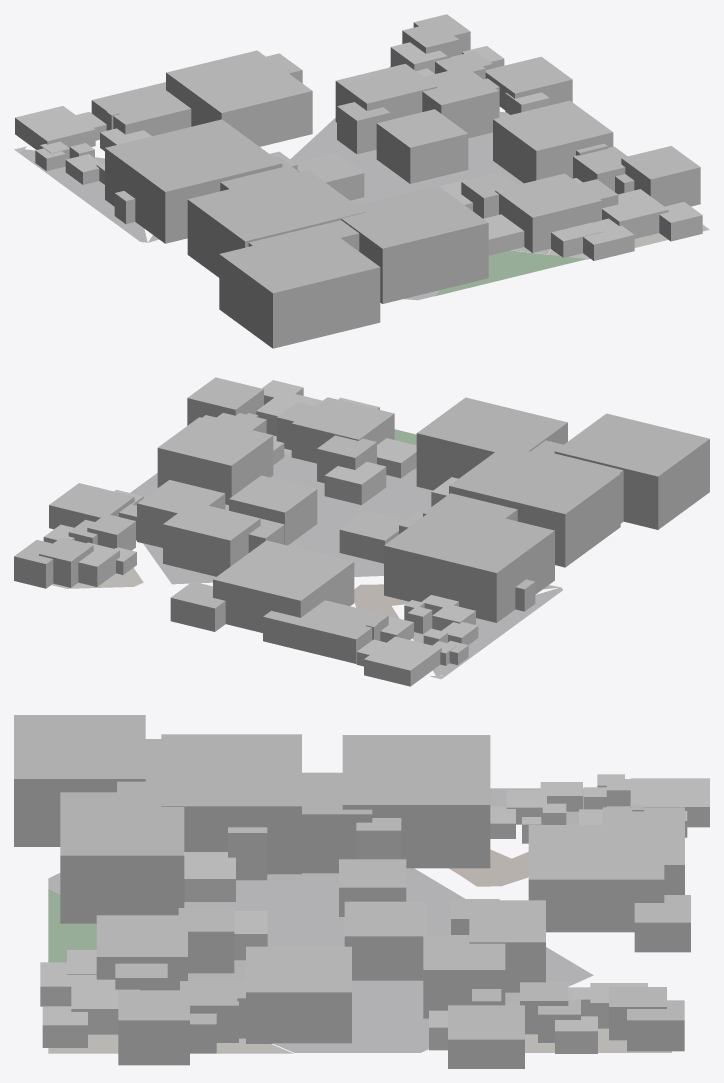
The model's file is 112_108_mid.glb.
3 renders of one model, top to bottom at view 1: azimuth 30°, elevation 25°; view 2: azimuth 150°, elevation 25°; view 3: azimuth 270°, elevation 25°, orthographic. The views are drawn at different scales.
Bounding box in the file's own units: 541 × 61.51 × 558.
